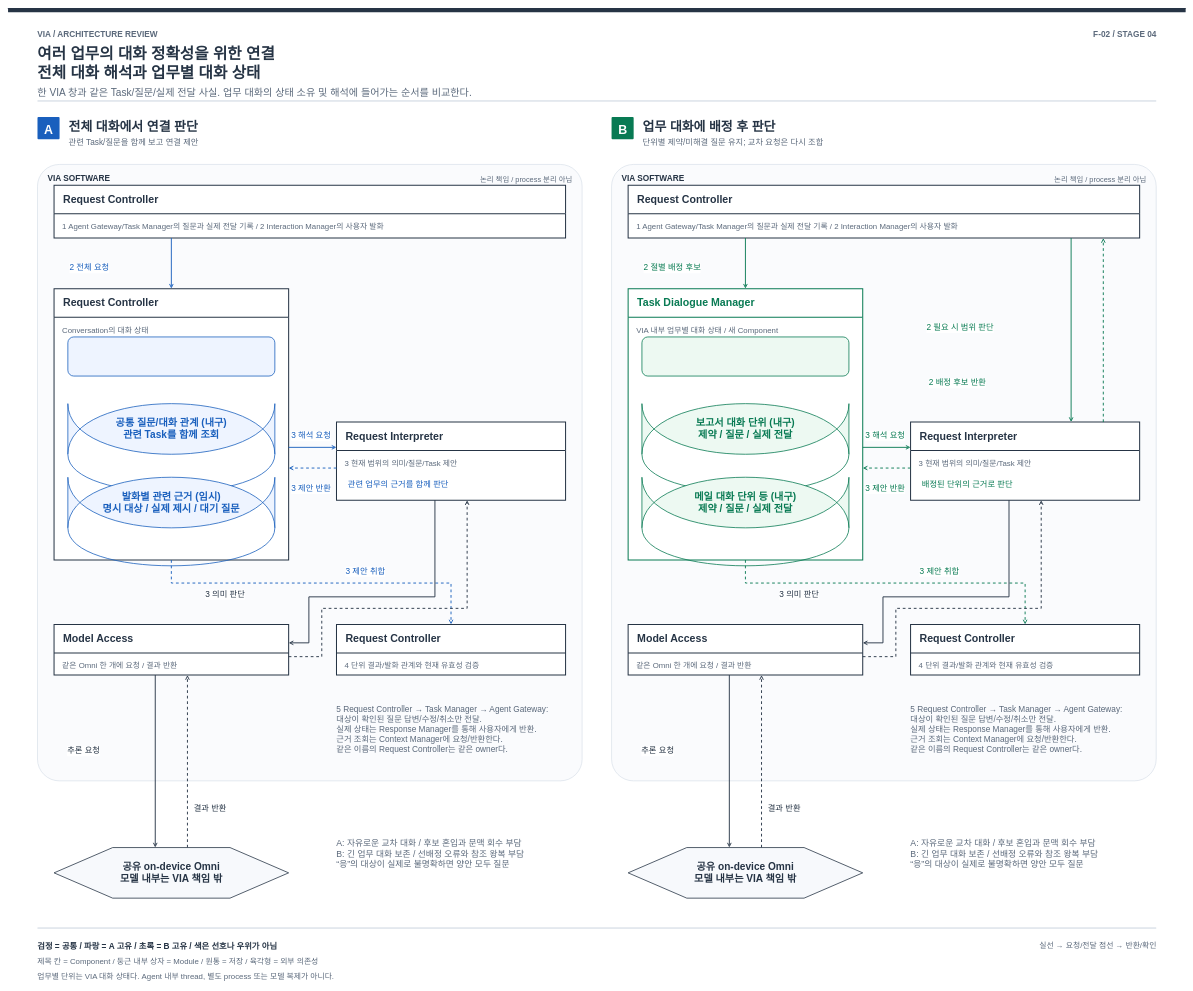
The diagram is 1193 pixels wide and 991 high, and some of its shapes have lost their labels. Here are the shapes that lost their labels. From the top down, the box of each, then its label:
(67, 336, 275, 376): 근거 조회 조정
(641, 336, 849, 376): 단위별 입력/참조 조정
